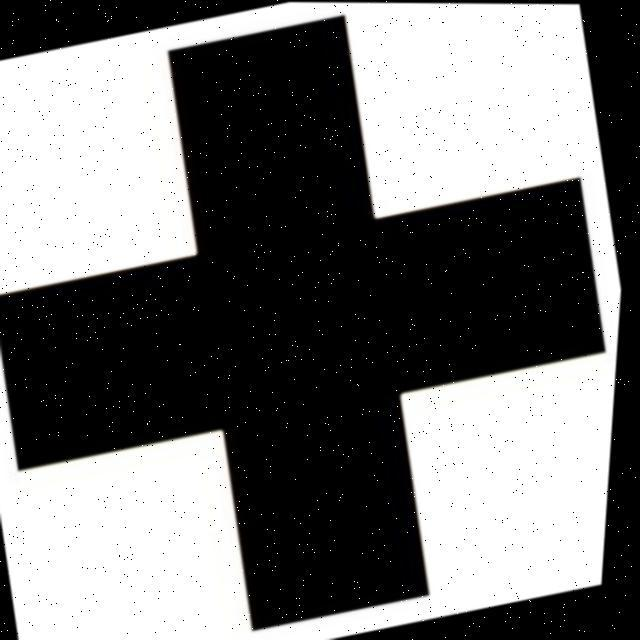cross: (10, 39, 587, 605)
